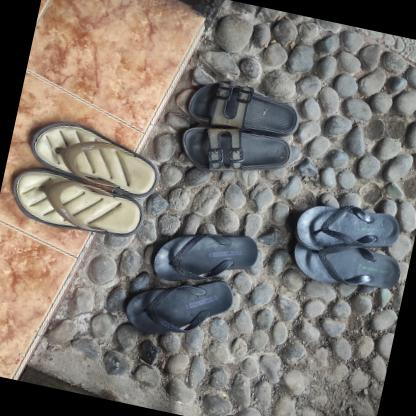Black Slide A: (176, 116, 294, 186), (184, 74, 302, 142)
Black Swallow A: (119, 261, 251, 354), (148, 216, 262, 298)
Black Swallow B: (289, 192, 412, 267), (287, 230, 402, 296)
Brown Flip Flop: (10, 111, 166, 202), (6, 164, 148, 243)
